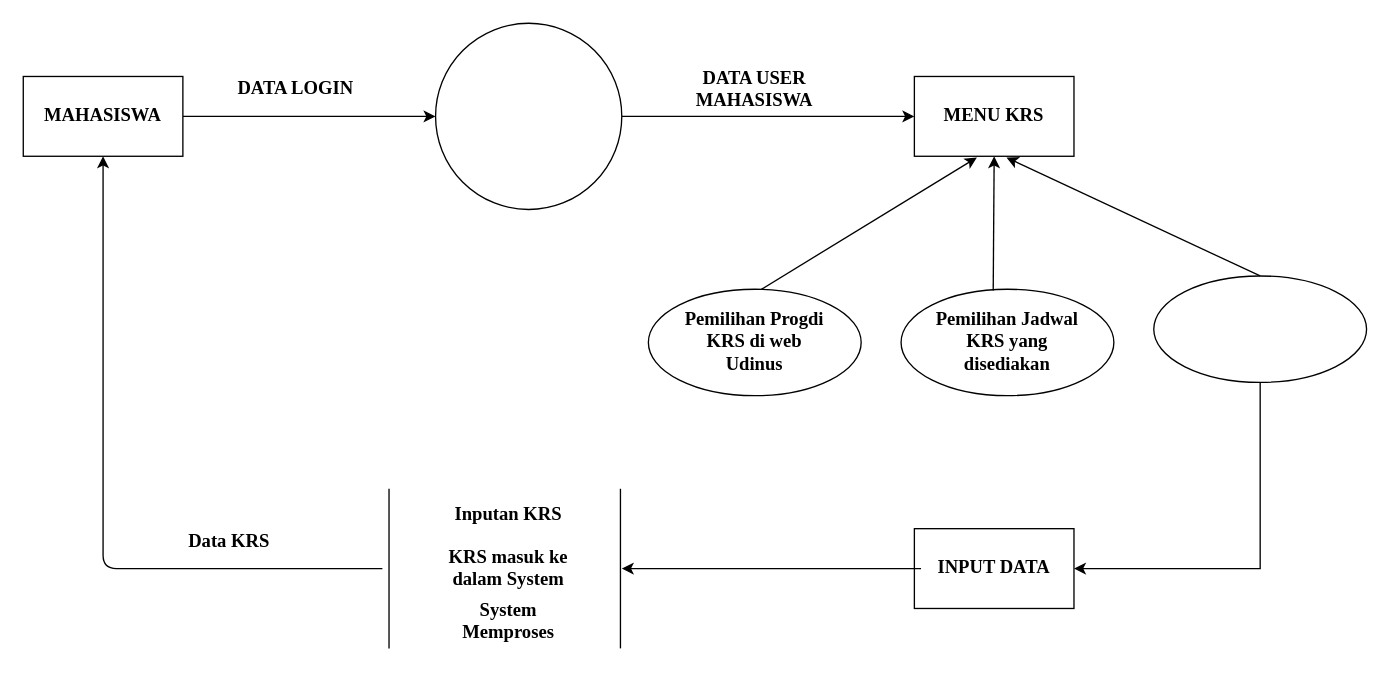
Some shapes in this 1390 by 673 pixel diagram are drawn without their labels. Here are the shapes that lost their labels. From the top down, the centre of each, then its label:
(x=528, y=115): WEB KRS UDINUS
(x=1259, y=328): Penginputan semua data KRS menjadi satu
